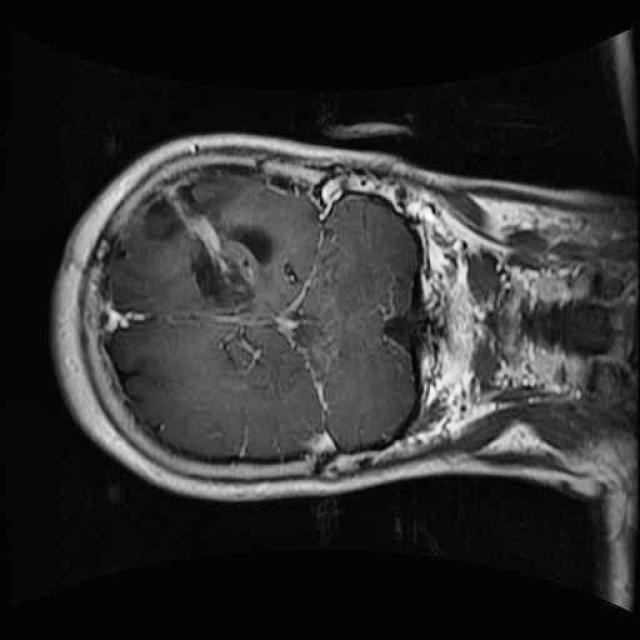Tumor: (133, 155, 312, 333)
